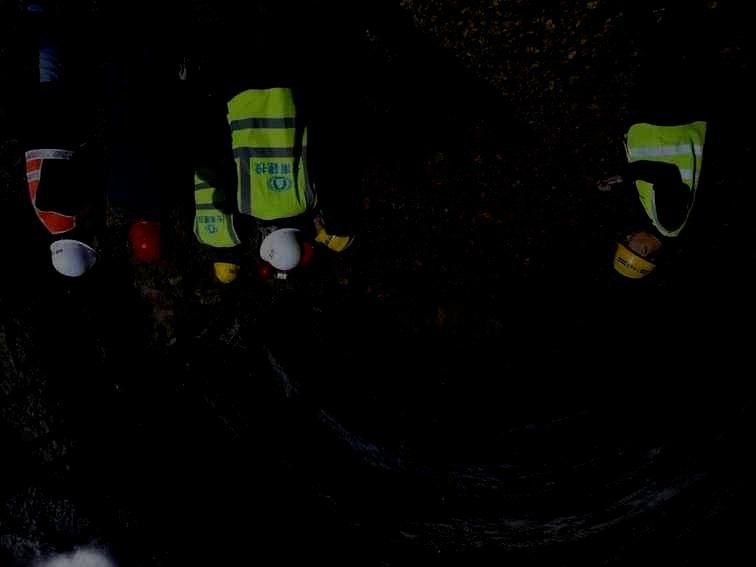helmet: (613, 229, 663, 279), (128, 219, 170, 266), (259, 226, 301, 271), (50, 240, 98, 277), (213, 248, 241, 283)
